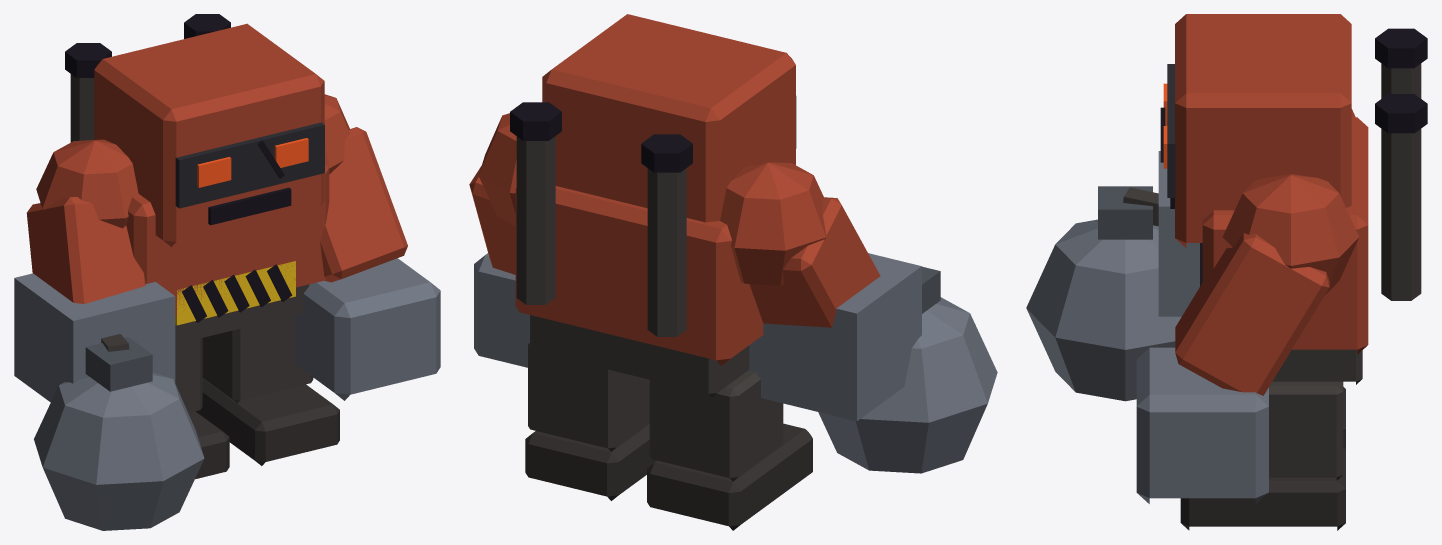
The model's file is r7_mini_wrecker.glb.
3 views of the same model, side by side, from view 1: azimuth 30°, elevation 25°; view 2: azimuth 150°, elevation 25°; view 3: azimuth 270°, elevation 25° (orthographic). The views are drawn at different scales.
Visible parts, largest first — view 1: r7_mini_wrecker_mesh; view 2: r7_mini_wrecker_mesh; view 3: r7_mini_wrecker_mesh.
Boxes of the visible parts, left/top/right/bottom form: r7_mini_wrecker_mesh: left=14, top=14, right=440, bottom=530; r7_mini_wrecker_mesh: left=469, top=14, right=997, bottom=530; r7_mini_wrecker_mesh: left=1026, top=14, right=1427, bottom=530.
Size of the model in its own units: 4.72 by 4.2 by 3.58.
Materials: 1 (1 with a texture image).
